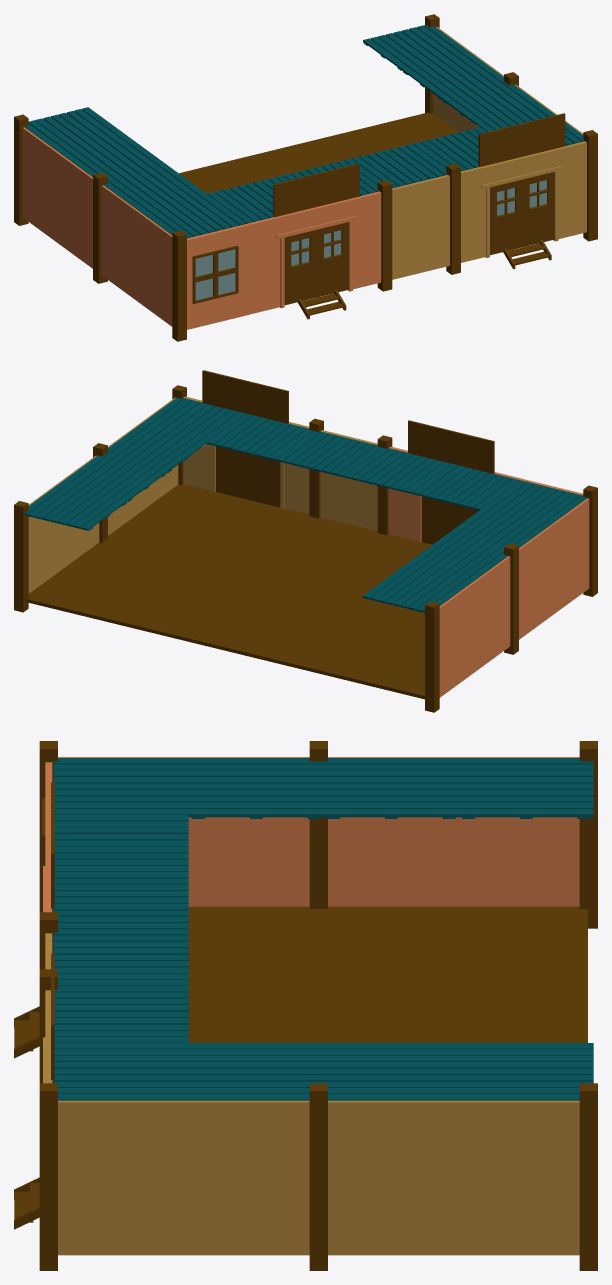
The model's file is Env_GeneralStore.fbx.
The picture shows the model from 3 angles, top to bottom: view 1: azimuth 30°, elevation 25°; view 2: azimuth 150°, elevation 25°; view 3: azimuth 270°, elevation 25°; orthographic projection. The views are drawn at different scales.
Parts seen in each view (by area): view 1: Wall_Doorframe_Master_Copy4, Wall_Doorframe_Master_Copy5, pCube826, Wall_Standard_Master_Copy33, Wall, Wall_Standard_Master_Copy38, Wall_Standard_Master_Copy36, Wall_Standard_Master_Copy35, Wall_Standard_Master_Copy37, pCube827, pCube828, Window (+11 smaller); view 2: pCube826, Wall_Standard_Master_Copy37, Wall_Standard_Master_Copy35, Wall_Standard_Master_Copy38, Wall_Standard_Master_Copy36, pCube828, pCube827, Wall_Standard_Master_Copy33, Wall_Doorframe_Master_Copy5, Wall_Standard_Master_Copy41, Wall_Doorframe_Master_Copy4, Wood_Pillar_OneStorey_Master_Copy33 (+11 smaller); view 3: pCube826, Wall_Standard_Master_Copy39, Wall_Standard_Master_Copy41, Wall_Standard_Master_Copy40, Wall_Standard_Master_Copy34, Wall_Standard_Master_Copy38, Wall_Standard_Master_Copy37, Wall_Standard_Master_Copy36, Wood_Pillar_OneStorey_Master_Copy28, Wood_Pillar_OneStorey_Master_Copy35, Wood_Pillar_OneStorey_Master_Copy34, Wood_Pillar_OneStorey_Master_Copy33 (+113 smaller).
Boxes of the visible parts, x1,y1,x2,y2 form: Wall_Doorframe_Master_Copy4: [247, 191, 381, 314]; Wall_Doorframe_Master_Copy5: [461, 141, 586, 262]; pCube826: [179, 112, 459, 194]; Wall_Standard_Master_Copy33: [392, 175, 449, 279]; Wall: [187, 224, 249, 329]; Wall_Standard_Master_Copy38: [22, 127, 60, 243]; Wall_Standard_Master_Copy36: [101, 185, 140, 301]; Wall_Standard_Master_Copy35: [138, 212, 172, 326]; Wall_Standard_Master_Copy37: [59, 154, 92, 268]; pCube827: [478, 113, 565, 166]; pCube828: [273, 163, 359, 217]; Window: [192, 245, 238, 303]; pCube826: [26, 484, 432, 699]; Wall_Standard_Master_Copy37: [471, 556, 510, 672]; Wall_Standard_Master_Copy35: [551, 498, 589, 614]; Wall_Standard_Master_Copy38: [439, 583, 473, 697]; Wall_Standard_Master_Copy36: [519, 525, 552, 639]; pCube828: [408, 420, 494, 473]; pCube827: [202, 370, 288, 423]; Wall_Standard_Master_Copy33: [320, 430, 377, 531]; Wall_Doorframe_Master_Copy5: [183, 396, 309, 514]; Wall_Standard_Master_Copy41: [28, 482, 62, 593]; Wall_Doorframe_Master_Copy4: [388, 446, 522, 542]; Wood_Pillar_OneStorey_Master_Copy33: [425, 601, 439, 712]; pCube826: [188, 906, 587, 1042]; Wall_Standard_Master_Copy39: [183, 1100, 309, 1255]; Wall_Standard_Master_Copy41: [453, 1100, 579, 1255]; Wall_Standard_Master_Copy40: [328, 1100, 453, 1255]; Wall_Standard_Master_Copy34: [58, 1100, 183, 1255]; Wall_Standard_Master_Copy38: [453, 757, 579, 906]; Wall_Standard_Master_Copy37: [328, 757, 453, 906]; Wall_Standard_Master_Copy36: [183, 757, 309, 906]; Wood_Pillar_OneStorey_Master_Copy28: [39, 1083, 57, 1270]; Wood_Pillar_OneStorey_Master_Copy35: [309, 1083, 327, 1270]; Wood_Pillar_OneStorey_Master_Copy34: [579, 1083, 597, 1270]; Wood_Pillar_OneStorey_Master_Copy33: [579, 741, 597, 928].
Size of the model in its own units: 1227 by 369 by 865.
